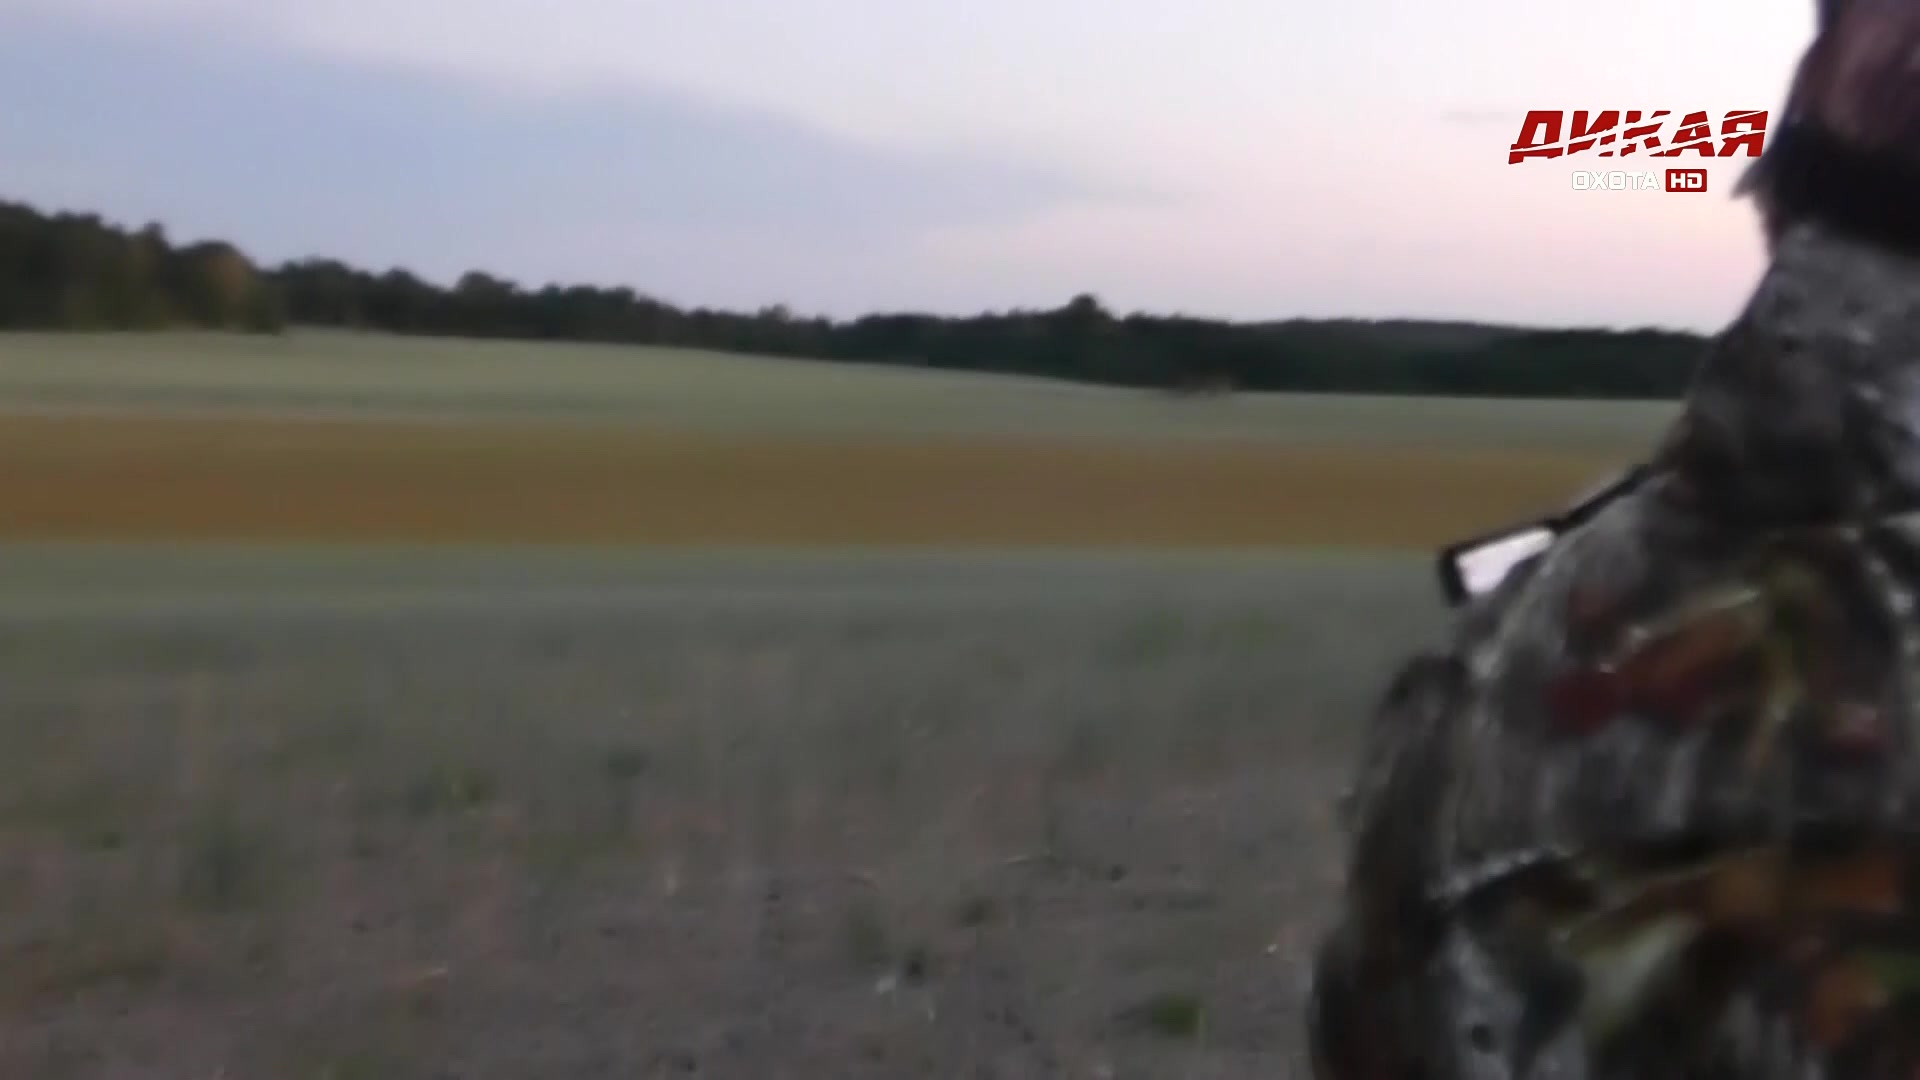Dikaya_Ohota_HD: (1502, 105, 1774, 195)
